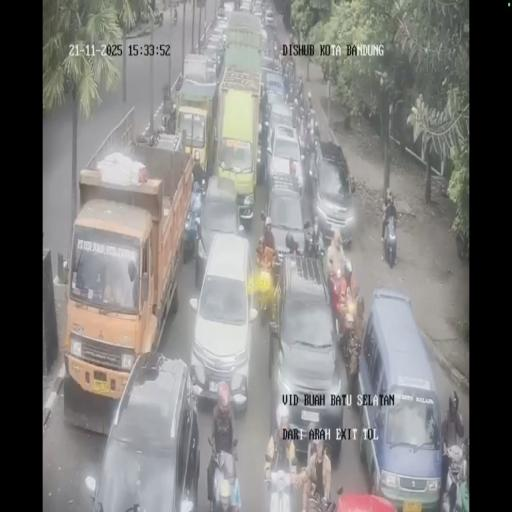car: (357, 290, 441, 506), (89, 352, 200, 508), (268, 253, 346, 457), (195, 174, 244, 280), (312, 142, 356, 248), (262, 183, 306, 269), (266, 98, 296, 144), (262, 70, 287, 108), (202, 41, 224, 78), (260, 50, 278, 74), (214, 14, 230, 38), (221, 1, 235, 16), (264, 7, 274, 25), (251, 0, 262, 16), (239, 0, 252, 13)
motorcycle: (206, 438, 242, 509), (440, 438, 468, 510), (380, 210, 398, 267), (155, 9, 163, 27), (171, 6, 177, 26)
truck: (174, 62, 218, 180), (221, 7, 264, 82)
